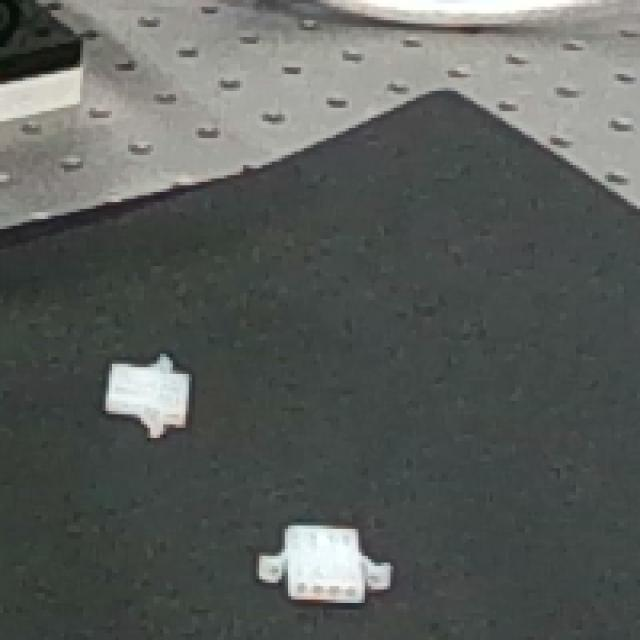pick: (222, 492, 407, 631), (81, 326, 222, 447)
